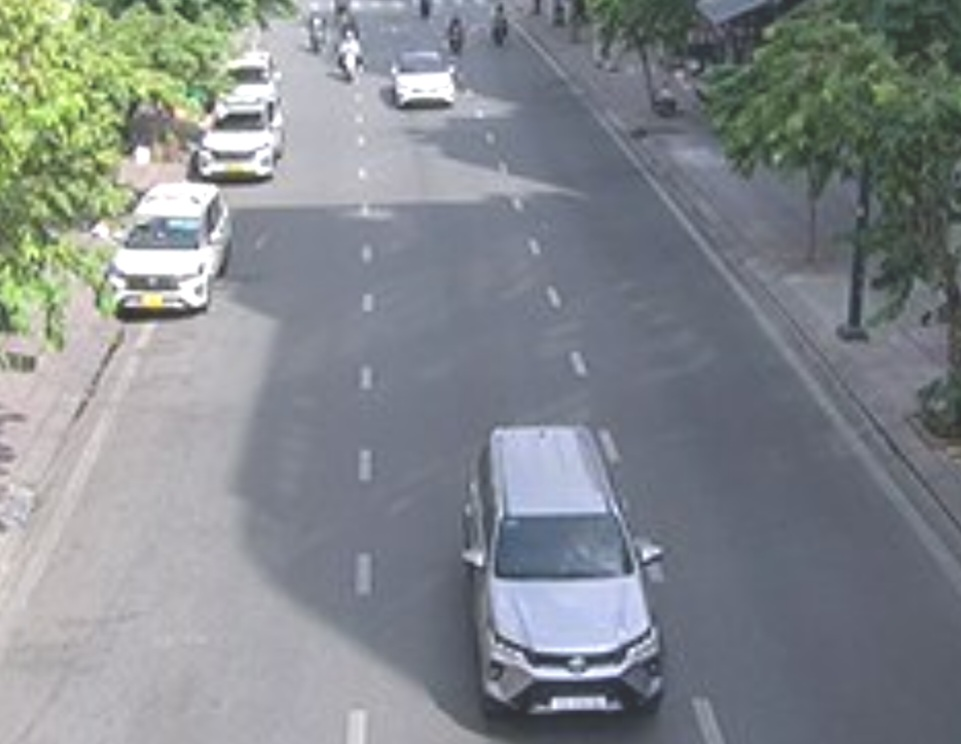car: (459, 430, 668, 713), (102, 183, 239, 326), (195, 97, 288, 183), (385, 50, 463, 113)
